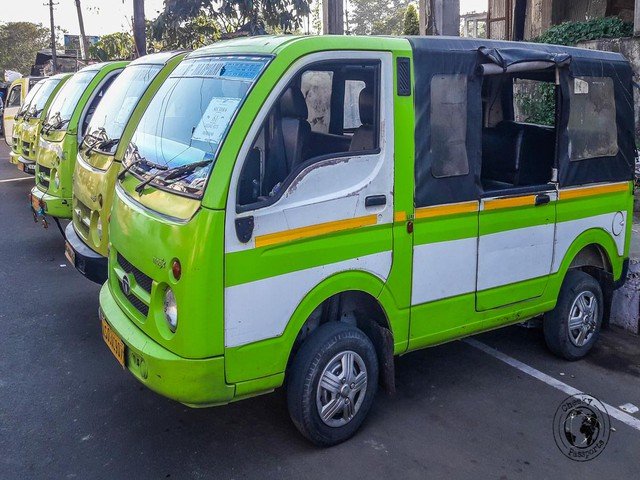Vehicle: (87, 34, 634, 409)
